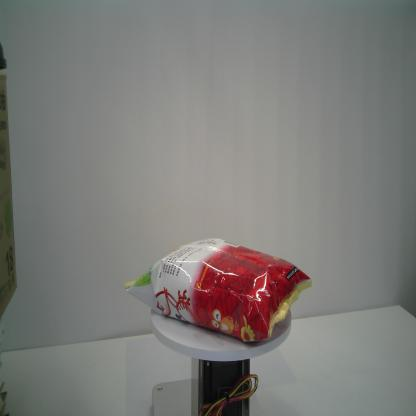Puffed Food: (124, 237, 313, 342)
